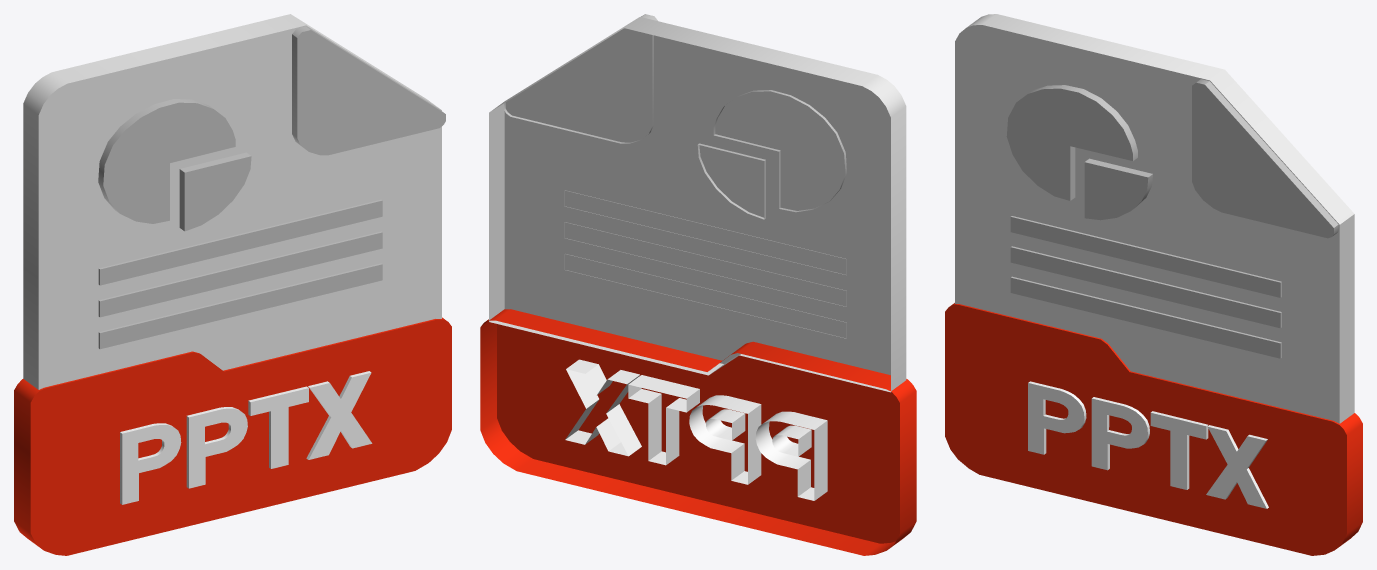
Rendered from pptx_3d.glb.
3 views of the same model, side by side, from view 1: azimuth 30°, elevation 25°; view 2: azimuth 150°, elevation 25°; view 3: azimuth 330°, elevation 25° (orthographic). The views are drawn at different scales.
Visible parts, largest first — view 1: Line007; view 2: Line007; view 3: Line007.
Part boxes in pixels (x1,y1,x2,y2): Line007: (14, 14, 451, 555); Line007: (480, 14, 916, 555); Line007: (945, 14, 1362, 555).
Size of the model in its own units: 0.0866 by 0.0925 by 0.00735.
Materials: 1 (1 with a texture image).
